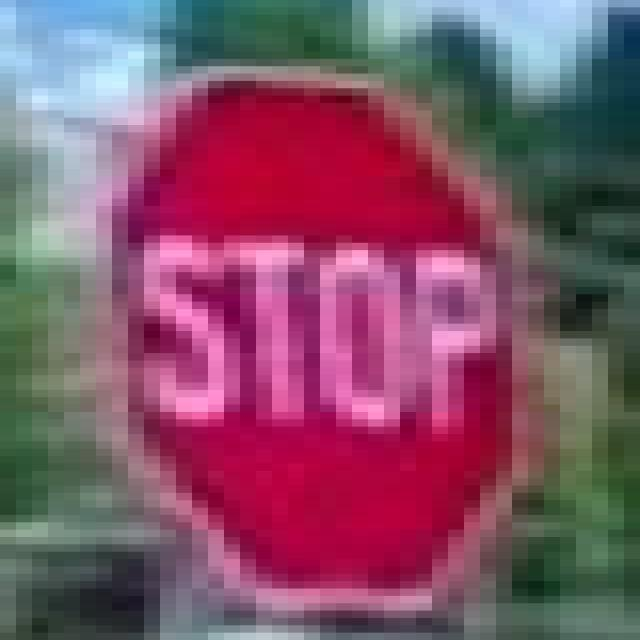Stop-Sign: (122, 112, 504, 588)
